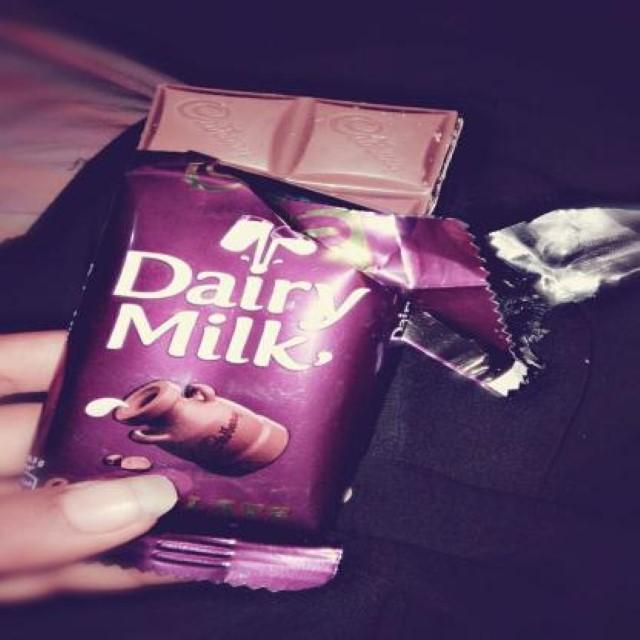cadbury_chocolate: (25, 155, 435, 588)
